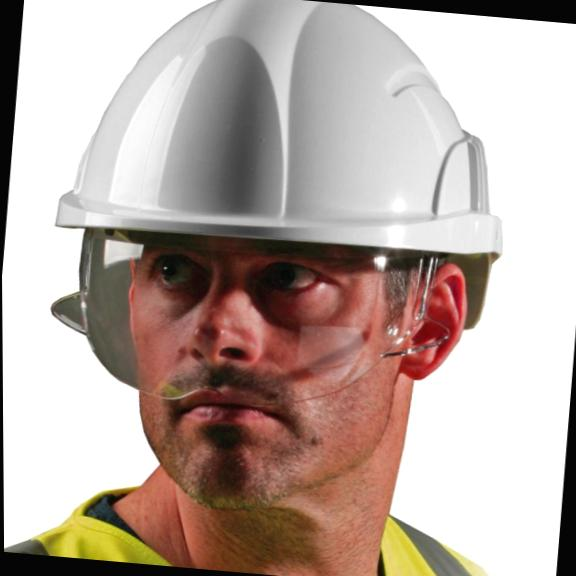safety_vest: (4, 475, 504, 576)
